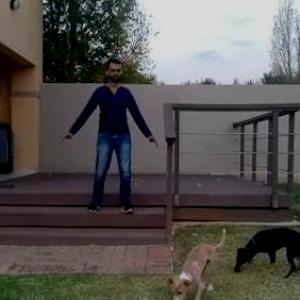land: (67, 62, 154, 226)
